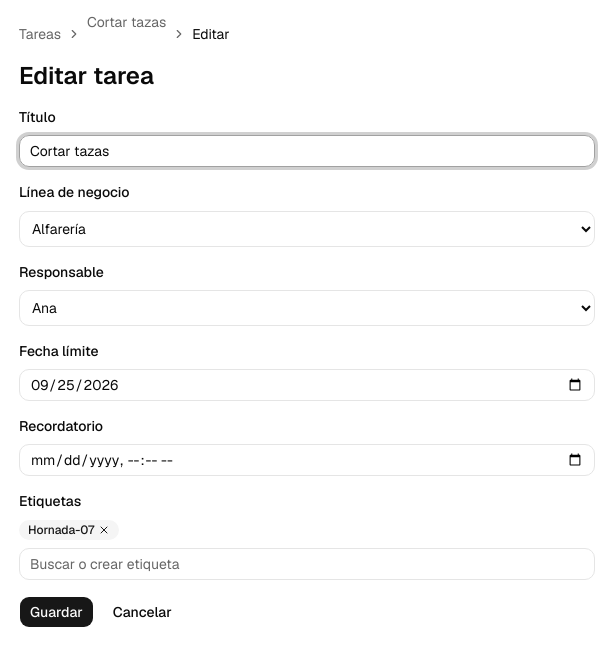
Scenario: TaskForm en modo edición › impide un recordatorio sin fecha límite (Un recordatorio necesita fecha límite)
The image size is (615, 672).
Clear the date field labelled "Fecha límite" at (307, 385), box [19,369,595,401]
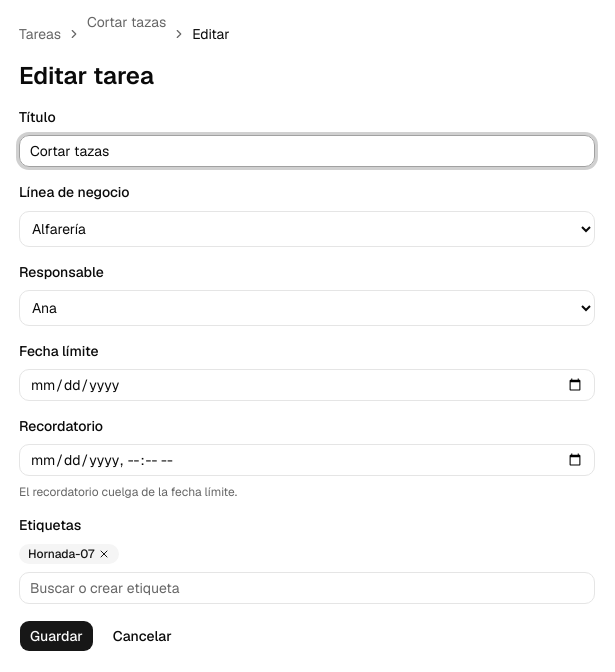
Type "2026-09-24T09:00" into the field labelled "Recordatorio" at (307, 460), box [19,444,595,476]
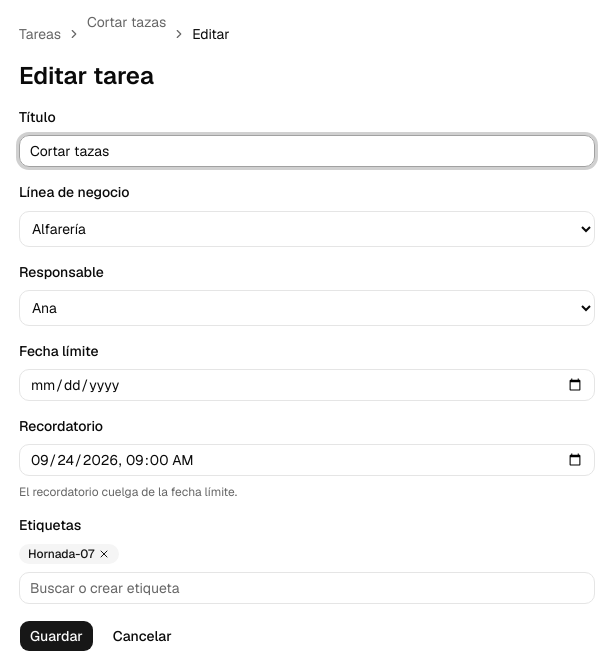
Click the button with test id "save-task" at (56, 636), box [19,620,94,652]
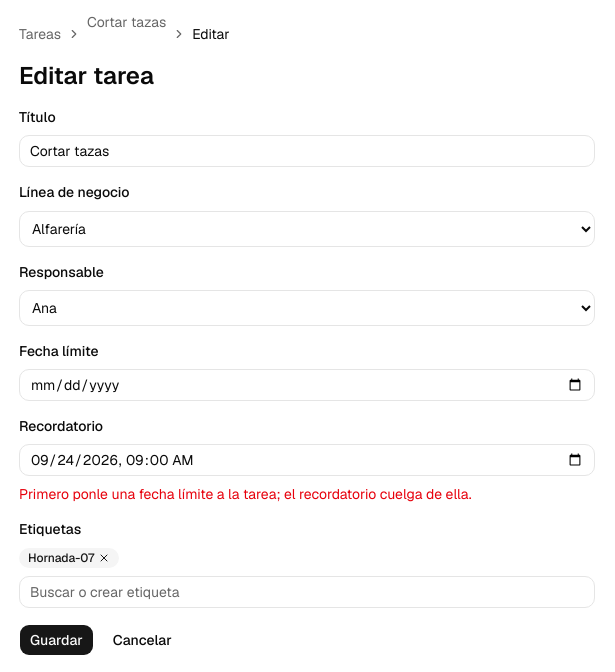
Expected: the text "Primero ponle una fecha límite a la tarea; el recordatorio cuelga de ella." is shown, [19,485,472,503]
